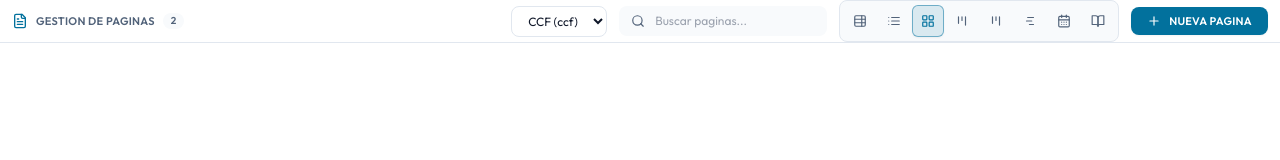
Test: CmsPagesManagement › filtra por búsqueda
The image size is (1280, 160).
Type "nosotros" into the field with placeholder "Buscar paginas...".
click(723, 21); type("nosotros")  # box [619, 6, 827, 36]
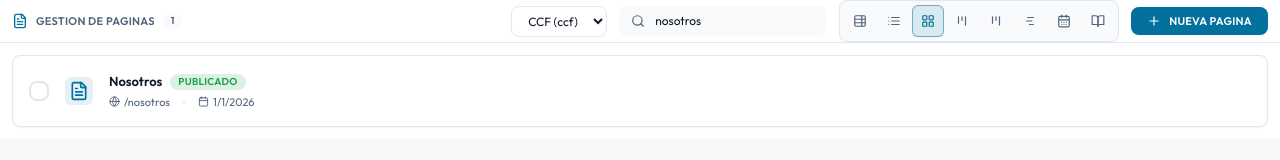
Check: the heading "Nosotros" is shown, box [109, 72, 162, 92]
